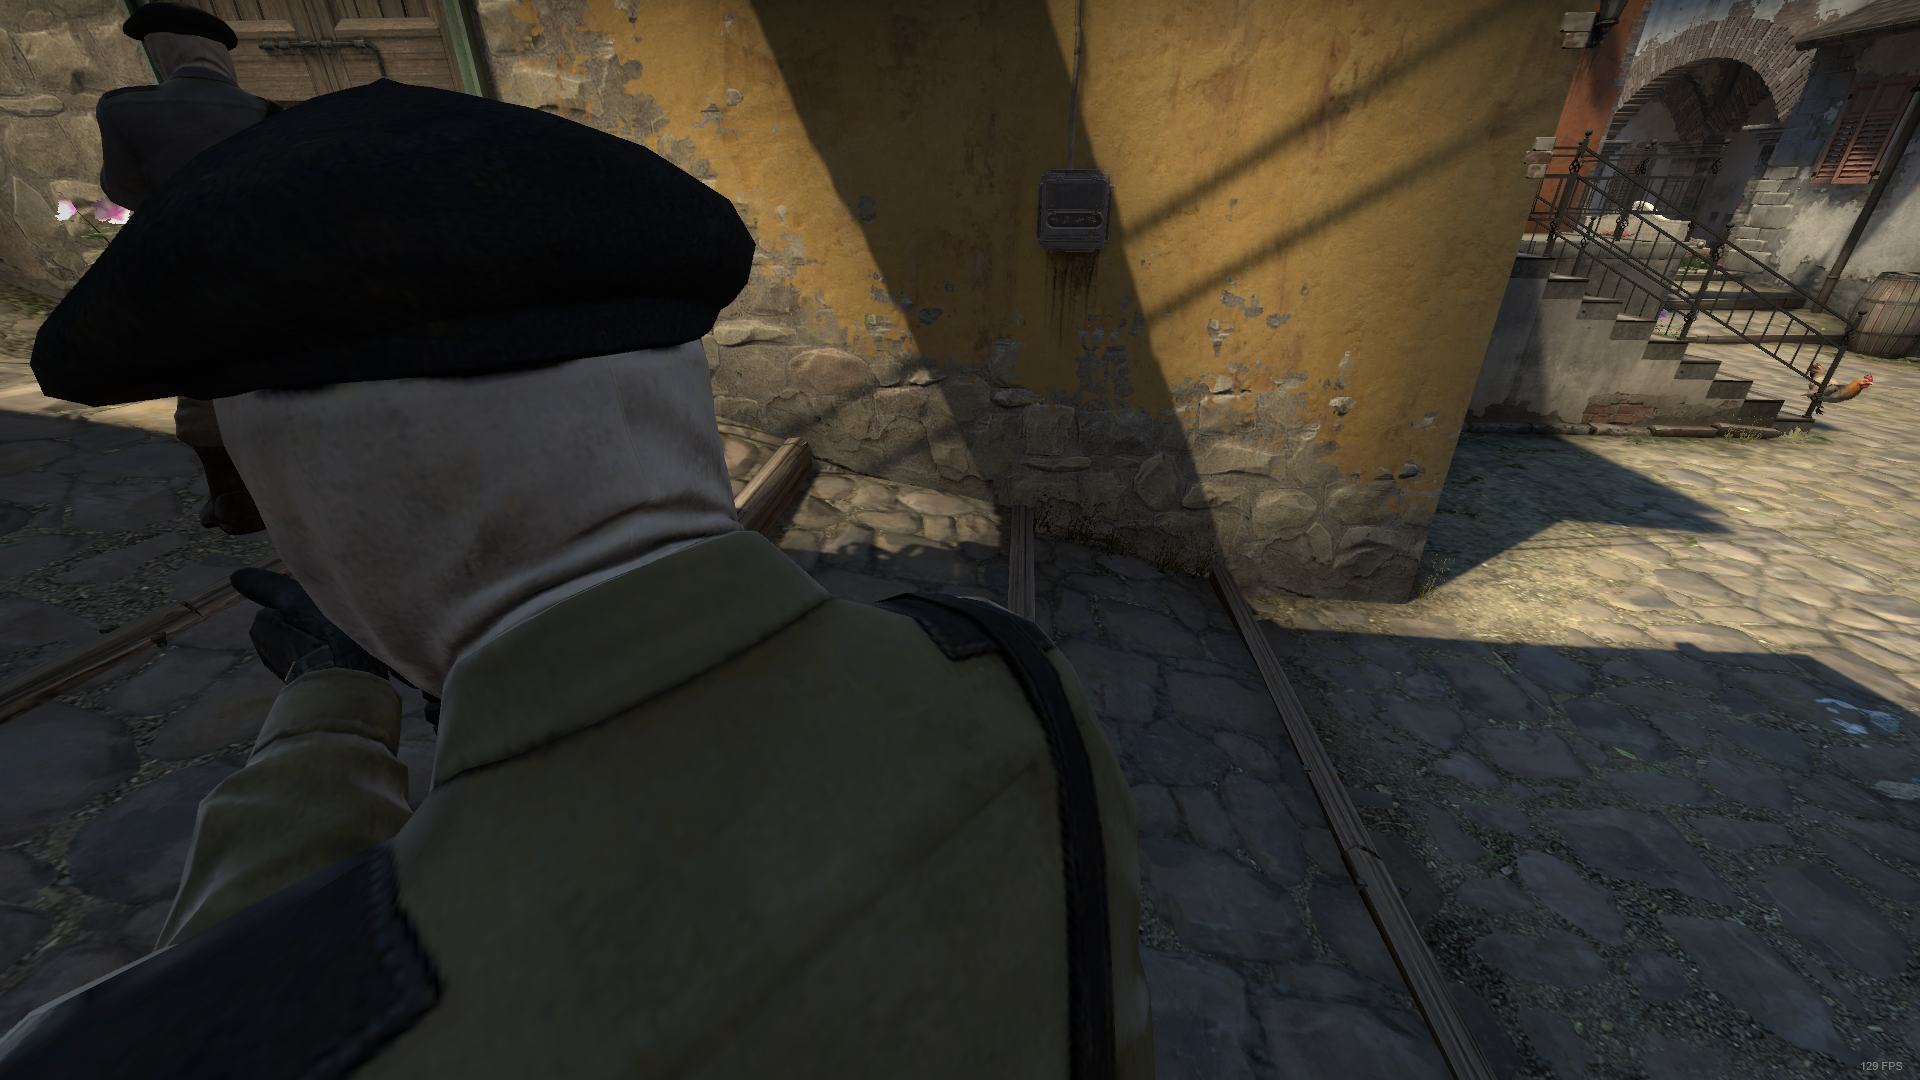t: (4, 76, 1155, 1080), (92, 13, 280, 215)
